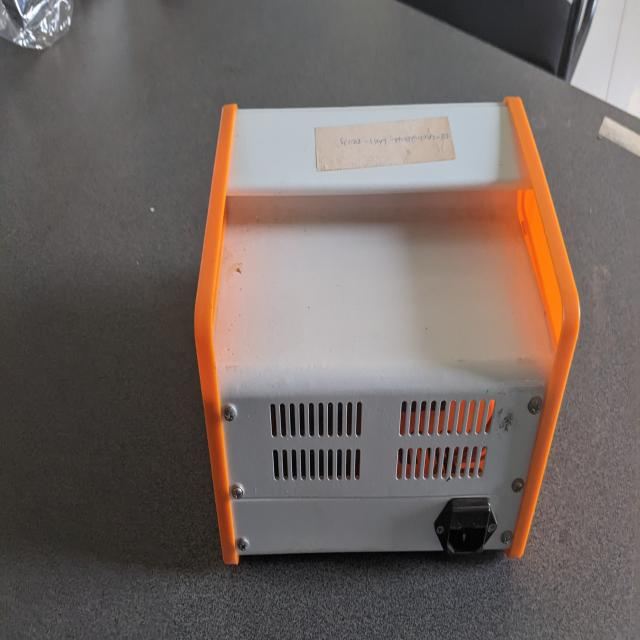AC and DC Power Supply 24V: (185, 88, 581, 577)
